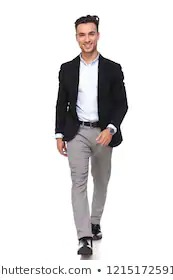F_M_suit jacket: (57, 53, 130, 147)
F_dress pants: (65, 120, 117, 240)
